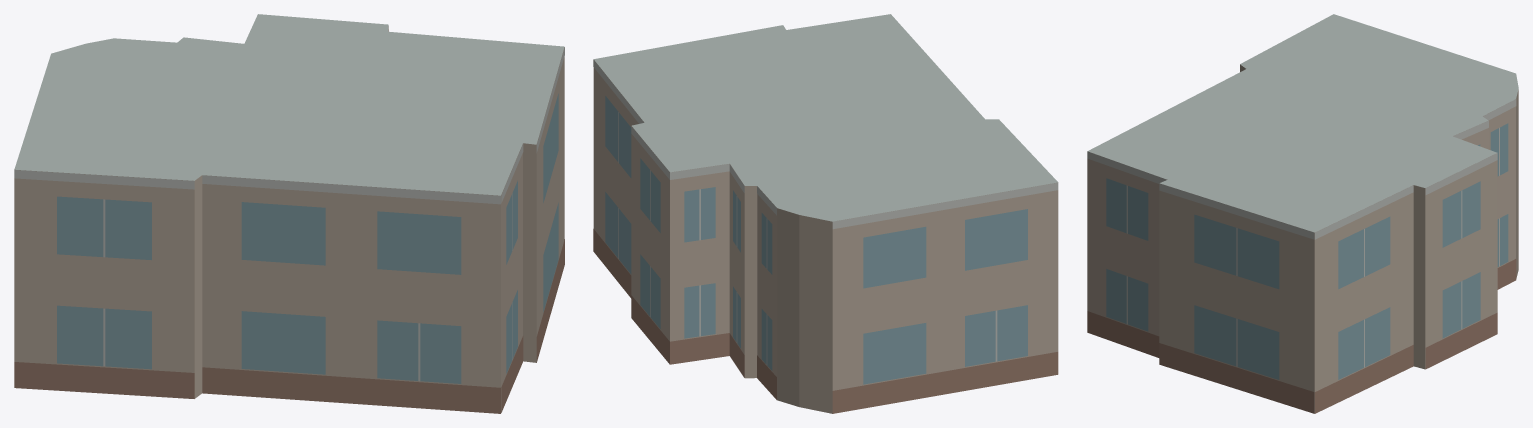
Rendered from survey-upis-32580755.glb.
3 renders of one model, left to right at view 1: azimuth 30°, elevation 25°; view 2: azimuth 150°, elevation 25°; view 3: azimuth 270°, elevation 25°, orthographic. The views are drawn at different scales.
Parts seen in each view (by area): view 1: survey-upis-32580755.tmp; view 2: survey-upis-32580755.tmp; view 3: survey-upis-32580755.tmp.
Boxes of the visible parts, x1,y1,x2,y2 form: survey-upis-32580755.tmp: [14, 14, 564, 413]; survey-upis-32580755.tmp: [593, 14, 1058, 413]; survey-upis-32580755.tmp: [1087, 14, 1518, 413].
Bounding box in the file's own units: 15.78 × 6.1 × 13.16.
